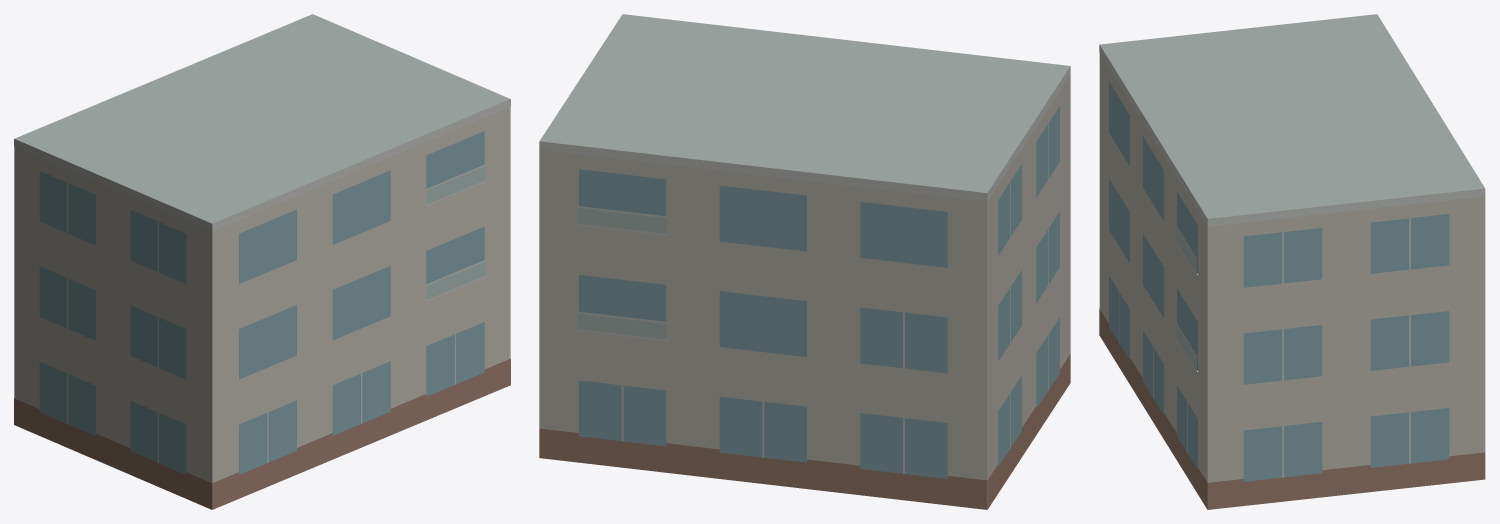
File: survey-upis-32996322.glb
The picture shows the model from 3 angles, left to right: view 1: azimuth 30°, elevation 25°; view 2: azimuth 150°, elevation 25°; view 3: azimuth 270°, elevation 25°; orthographic projection. The views are drawn at different scales.
Visible parts, largest first — view 1: survey-upis-32996322.tmp; view 2: survey-upis-32996322.tmp; view 3: survey-upis-32996322.tmp.
Boxes of the visible parts, x1,y1,x2,y2 form: survey-upis-32996322.tmp: (14,14,510,509); survey-upis-32996322.tmp: (539,14,1070,509); survey-upis-32996322.tmp: (1099,14,1485,509).
Size of the model in its own units: 13.83 by 9.15 by 11.
